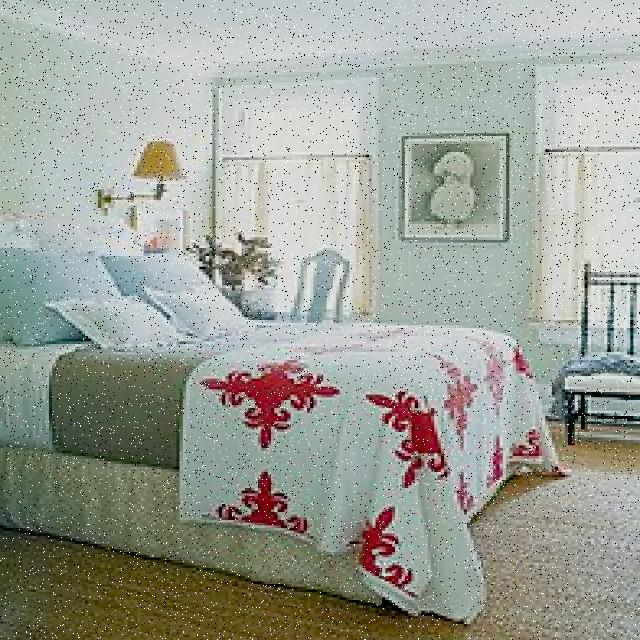bed: (2, 209, 534, 625)
